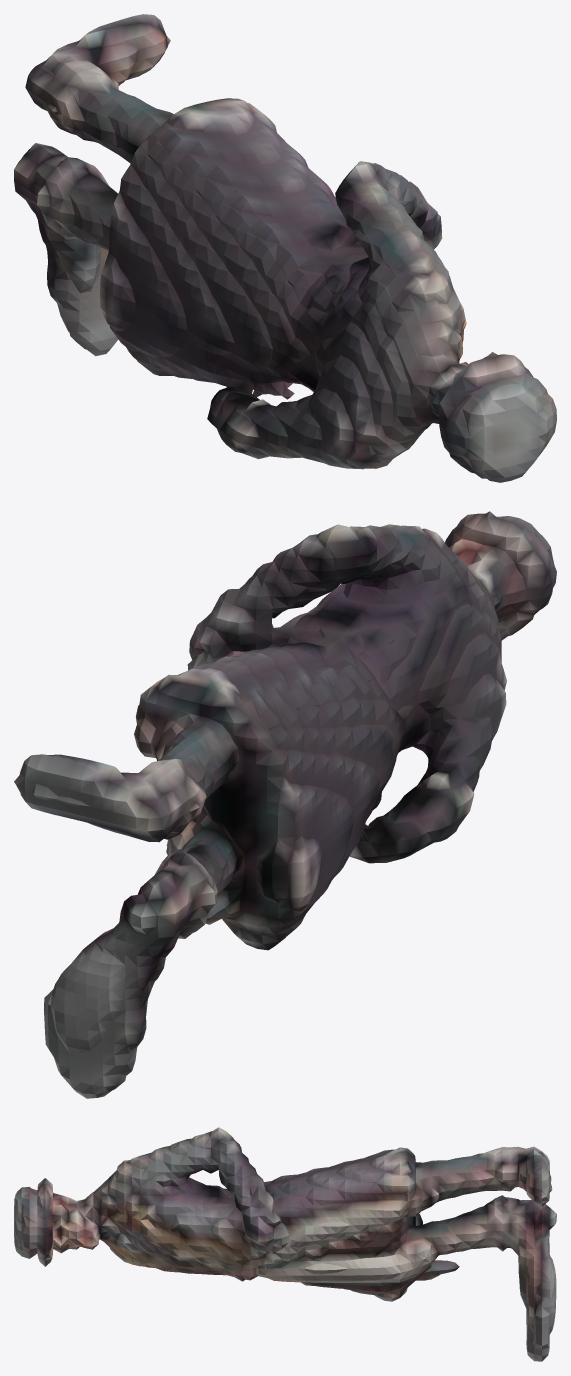
File: industrial_merchant_m_0.glb
3 views of the same model, one above another, from view 1: azimuth 30°, elevation 25°; view 2: azimuth 150°, elevation 25°; view 3: azimuth 270°, elevation 25° (orthographic). The views are drawn at different scales.
Visible parts, largest first — view 1: world; view 2: world; view 3: world.
Boxes of the visible parts, <box> form: world: <box>14,14,556,482</box>; world: <box>14,511,556,1098</box>; world: <box>14,1127,556,1361</box>.
Bounding box in the file's own units: 0.3003 × 0.4487 × 0.9438.
